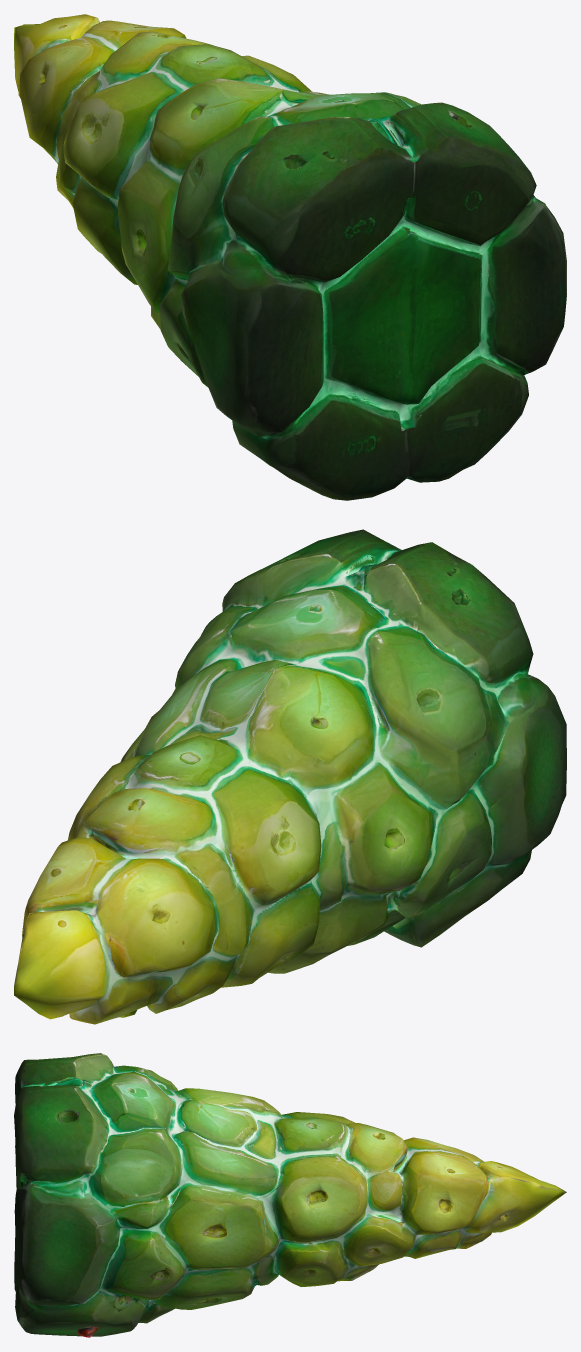
Rendered from Emerald Crystal 2.fbx.
3 renders of one model, top to bottom at view 1: azimuth 30°, elevation 25°; view 2: azimuth 150°, elevation 25°; view 3: azimuth 270°, elevation 25°, orthographic. The views are drawn at different scales.
Parts seen in each view (by area): view 1: texture_mapping; view 2: texture_mapping; view 3: texture_mapping.
Part boxes in pixels (x1=…): texture_mapping: x1=14, y1=14, x2=566, y2=500; texture_mapping: x1=14, y1=529, x2=566, y2=1024; texture_mapping: x1=14, y1=1053, x2=566, y2=1337.
Size of the model in its own units: 2.98 by 3.05 by 6.
Materials: 1 (1 with a texture image).
